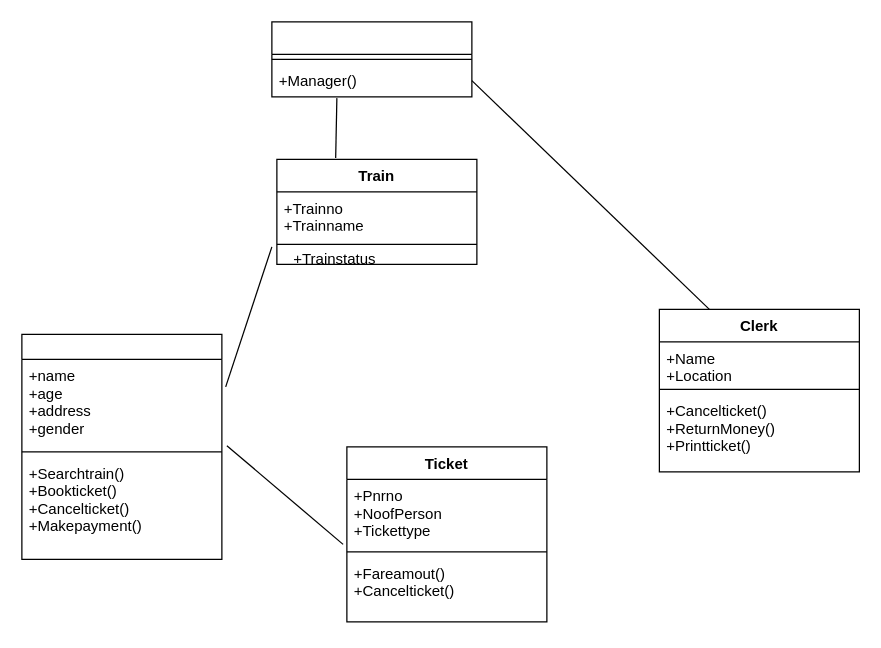
Image size: 881x648. Some labels were removed from this diagram. The box of each missing label's shape, as (x1, y1, x2, y2) in pixels:
Admin: (271, 21, 472, 97)
Passanger: (21, 333, 222, 559)
